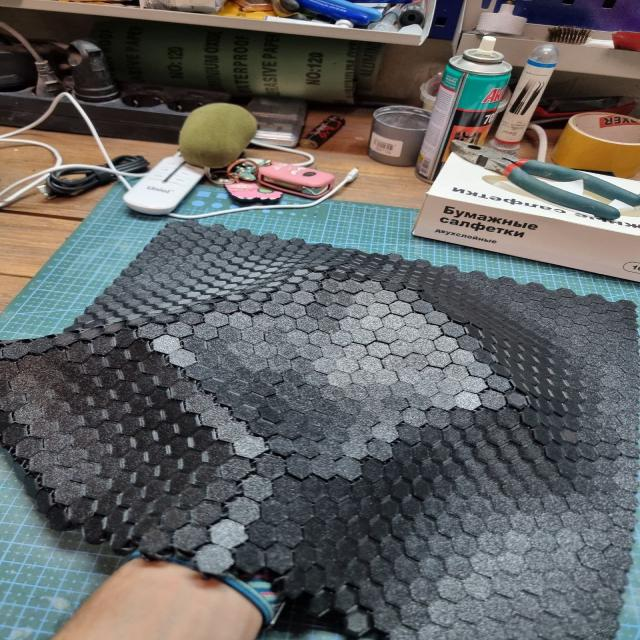Without deffect: (2, 196, 640, 640)
